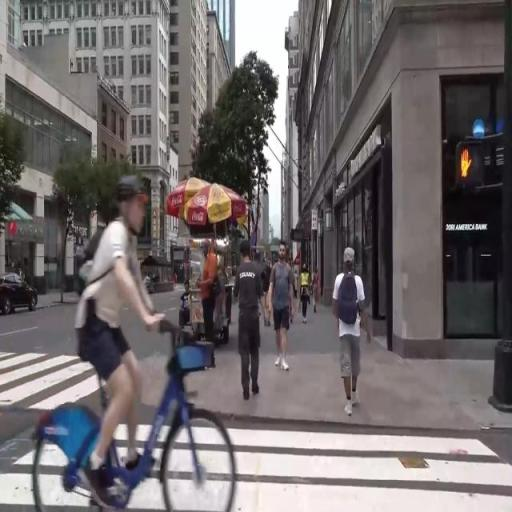person: (59, 184, 213, 509), (326, 245, 367, 415), (237, 236, 268, 407), (268, 236, 299, 386), (198, 238, 223, 372), (179, 276, 198, 340), (300, 262, 312, 323), (312, 262, 324, 316)
